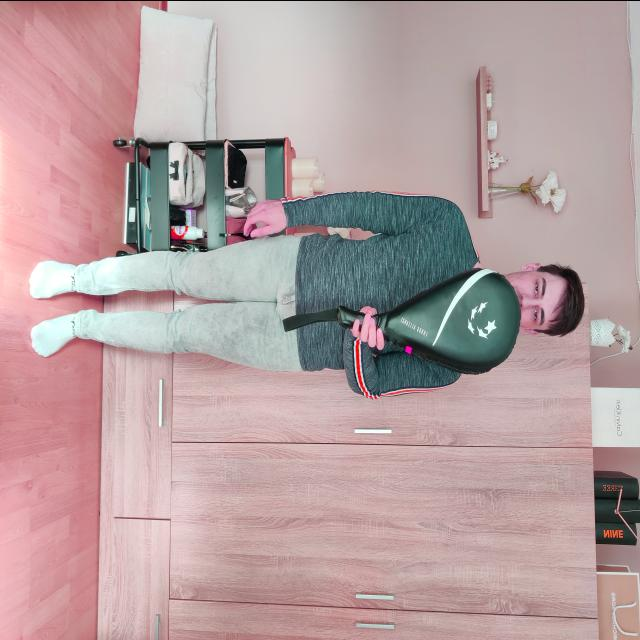paddle: (338, 265, 523, 375)
